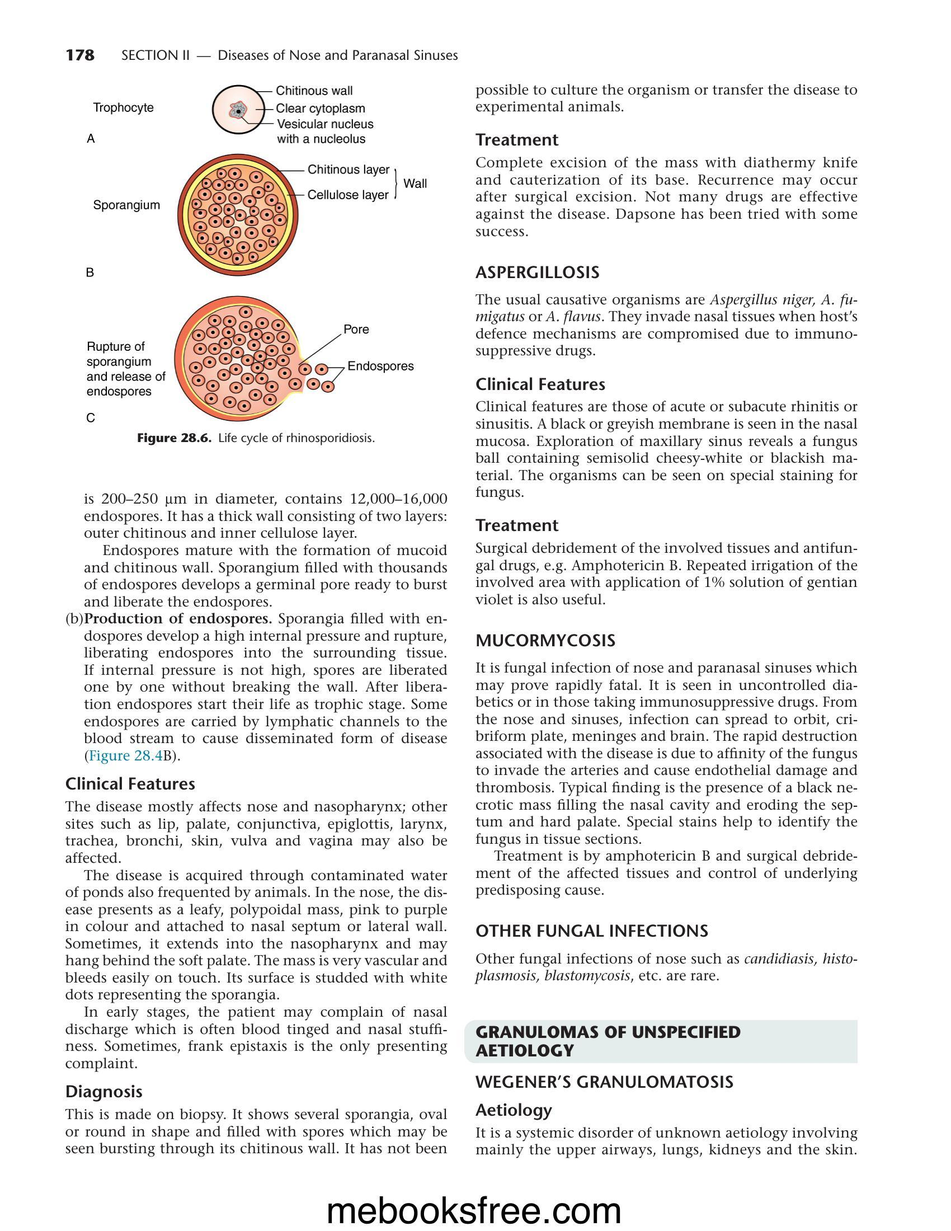caption: (136, 430, 376, 447), (86, 132, 96, 144), (85, 266, 95, 278), (86, 412, 96, 424)
header: (120, 48, 459, 62)
image: (70, 71, 434, 428)
section-heading: (475, 1023, 742, 1057)
sub-section-heading: (474, 1073, 735, 1090), (475, 922, 709, 938), (475, 632, 616, 648), (474, 375, 606, 392), (64, 775, 196, 791), (474, 265, 600, 279), (474, 1101, 553, 1121), (65, 1083, 143, 1102), (474, 131, 560, 147), (474, 517, 560, 532)
text: (64, 490, 450, 765), (63, 799, 449, 1072), (474, 661, 859, 900), (475, 399, 859, 502), (474, 155, 858, 238), (474, 292, 859, 360), (474, 541, 857, 607), (64, 1107, 449, 1158), (474, 82, 858, 117), (474, 1125, 860, 1159), (474, 951, 858, 985)
